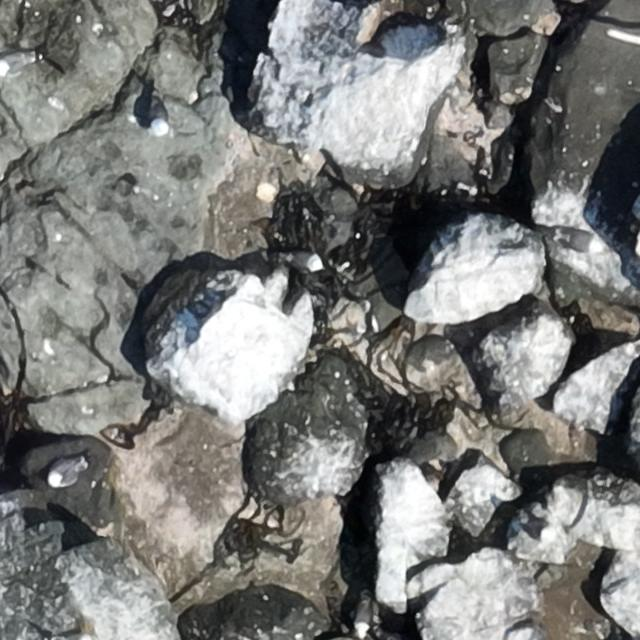umineko: (546, 222, 608, 254), (523, 516, 559, 546), (354, 600, 376, 640), (48, 460, 78, 486), (1, 53, 30, 75), (290, 253, 322, 272), (151, 104, 169, 136)
